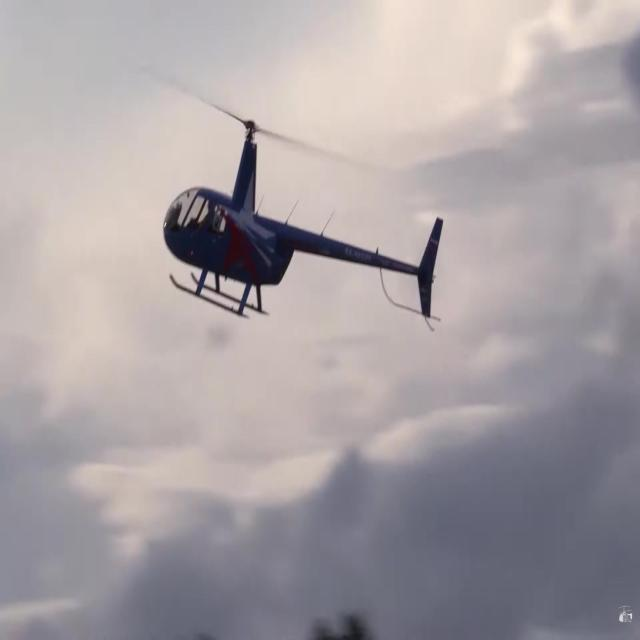CIV_HELO: (162, 117, 444, 320)
